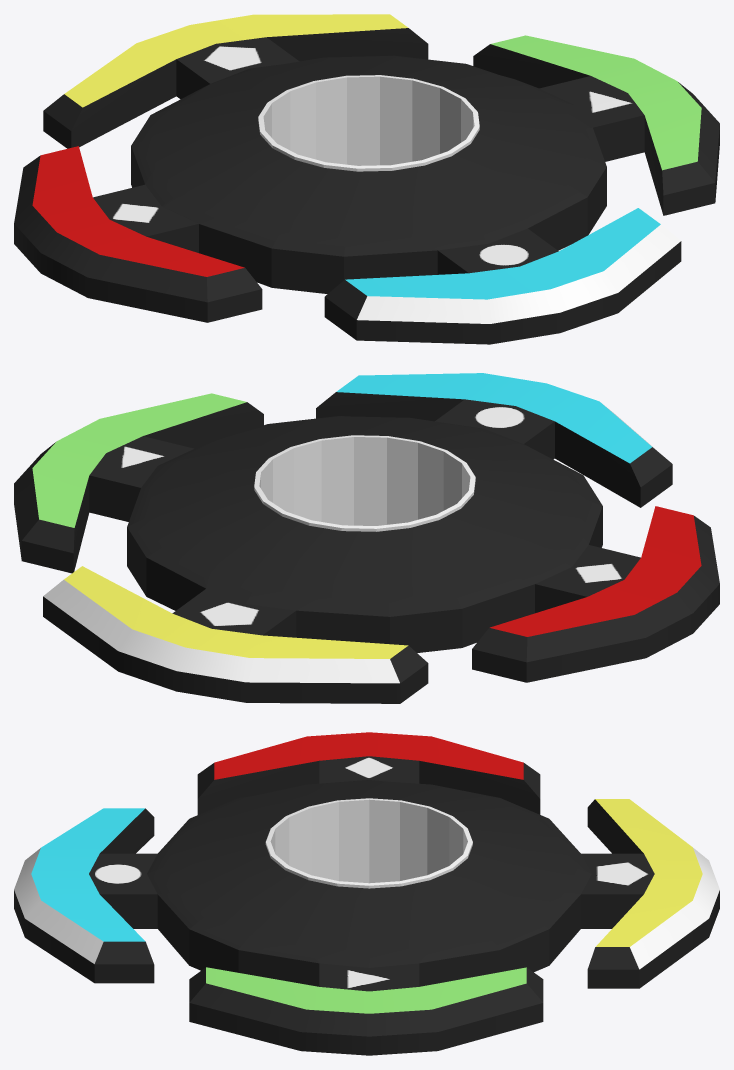
Rendered from ShieldGen1.fbx.
3 renders of one model, top to bottom at view 1: azimuth 30°, elevation 25°; view 2: azimuth 150°, elevation 25°; view 3: azimuth 270°, elevation 25°, orthographic. The views are drawn at different scales.
Parts seen in each view (by area): view 1: ShieldGen; view 2: ShieldGen; view 3: ShieldGen.
Boxes of the visible parts, x1=… form: ShieldGen: x1=14, y1=14, x2=719, y2=344; ShieldGen: x1=14, y1=373, x2=719, y2=703; ShieldGen: x1=14, y1=732, x2=719, y2=1055.
Size of the model in its own units: 96.45 by 15.83 by 97.19.
